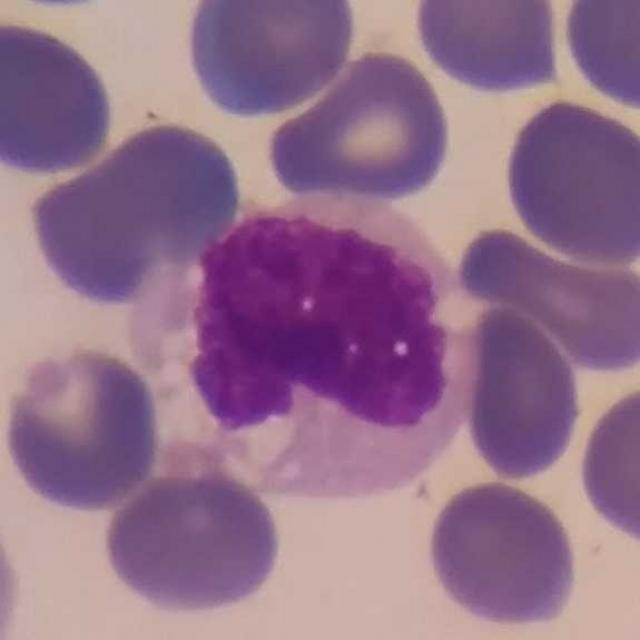Monocyte: (140, 185, 470, 513)
RBC: (20, 116, 248, 316), (262, 46, 458, 208), (97, 463, 288, 619), (452, 222, 640, 380), (0, 340, 166, 516), (422, 476, 583, 634), (498, 94, 640, 270), (456, 302, 586, 485), (178, 0, 363, 121), (0, 11, 120, 180), (408, 0, 569, 99), (573, 378, 640, 551), (557, 0, 640, 116)
